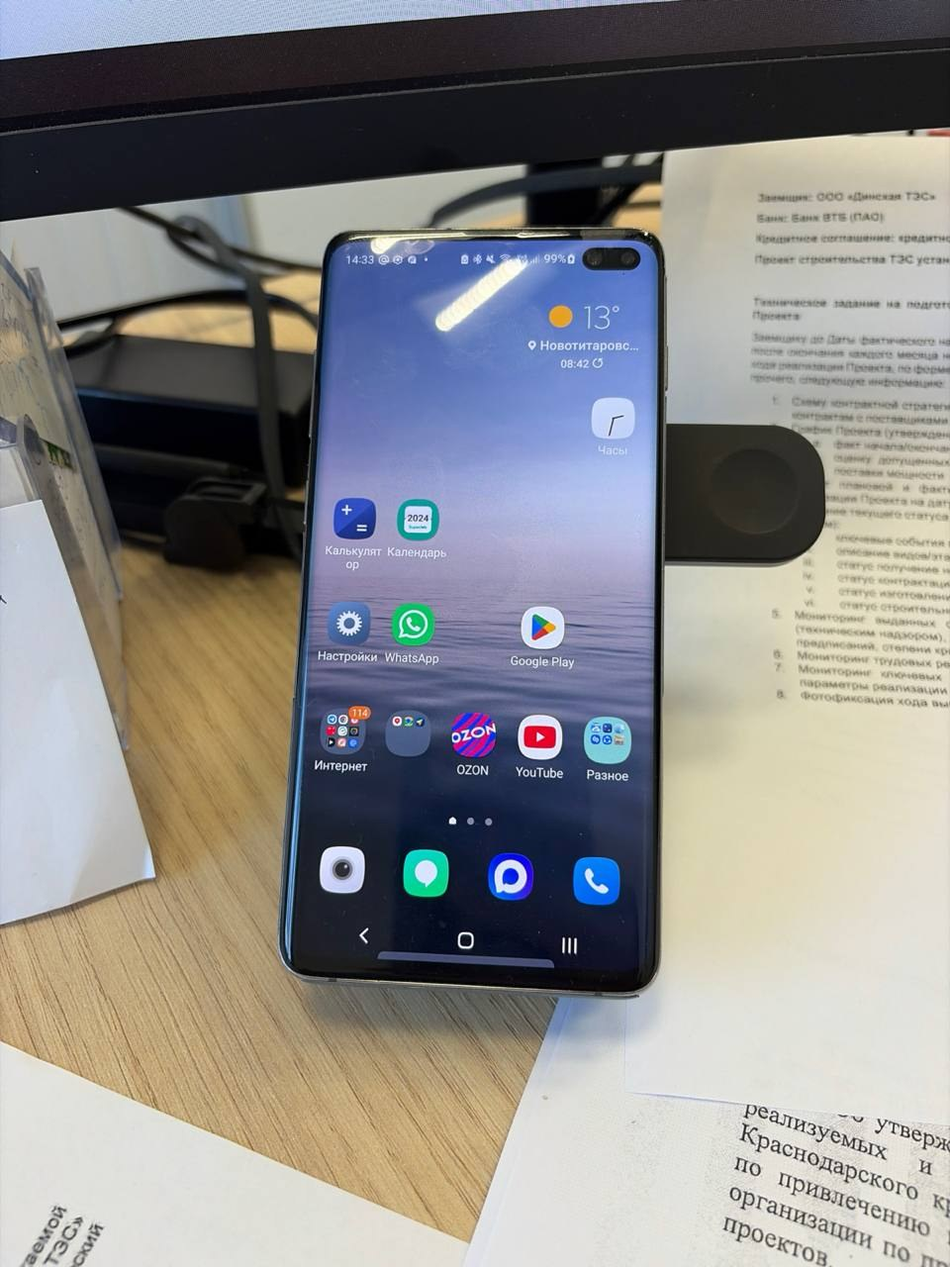cell phone: (277, 225, 666, 998)
